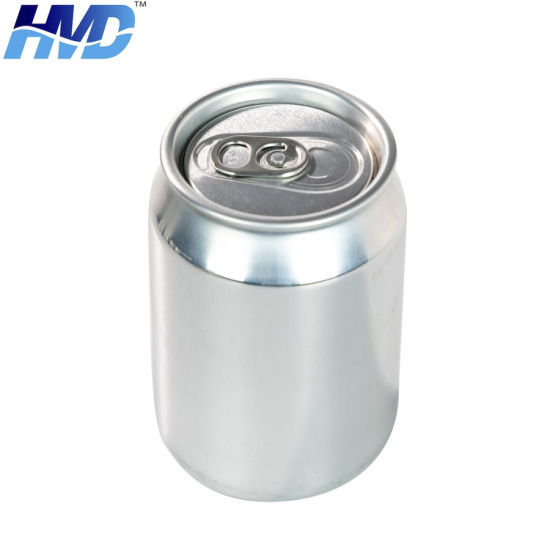metal: (149, 76, 408, 503)
